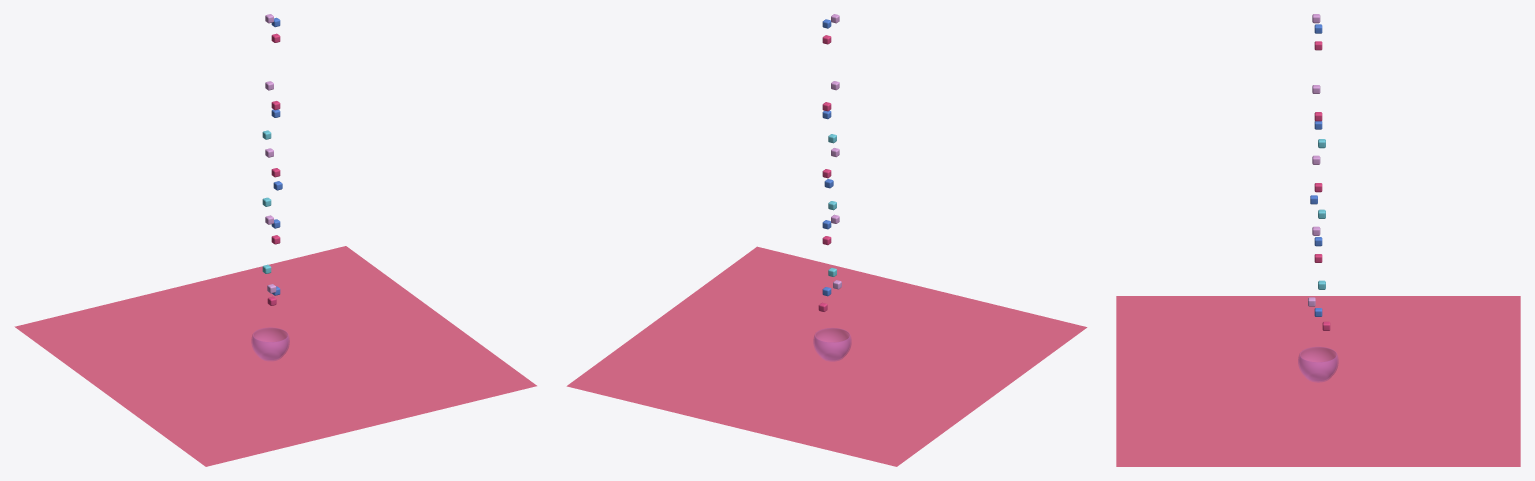
3 views of the same model, side by side, from view 1: azimuth 30°, elevation 25°; view 2: azimuth 150°, elevation 25°; view 3: azimuth 270°, elevation 25° (orthographic). The views are drawn at different scales.
Parts seen in each view (by area): view 1: Plane, Sphere; view 2: Plane, Sphere; view 3: Plane, Sphere.
Part boxes in pixels (x1,y1,x2,y2): Plane: (14, 246, 536, 466); Sphere: (251, 327, 289, 360); Plane: (566, 246, 1087, 466); Sphere: (813, 328, 851, 361); Plane: (1116, 296, 1520, 466); Sphere: (1298, 347, 1338, 382).
Size of the model in its own units: 32.99 by 34.47 by 32.99.
